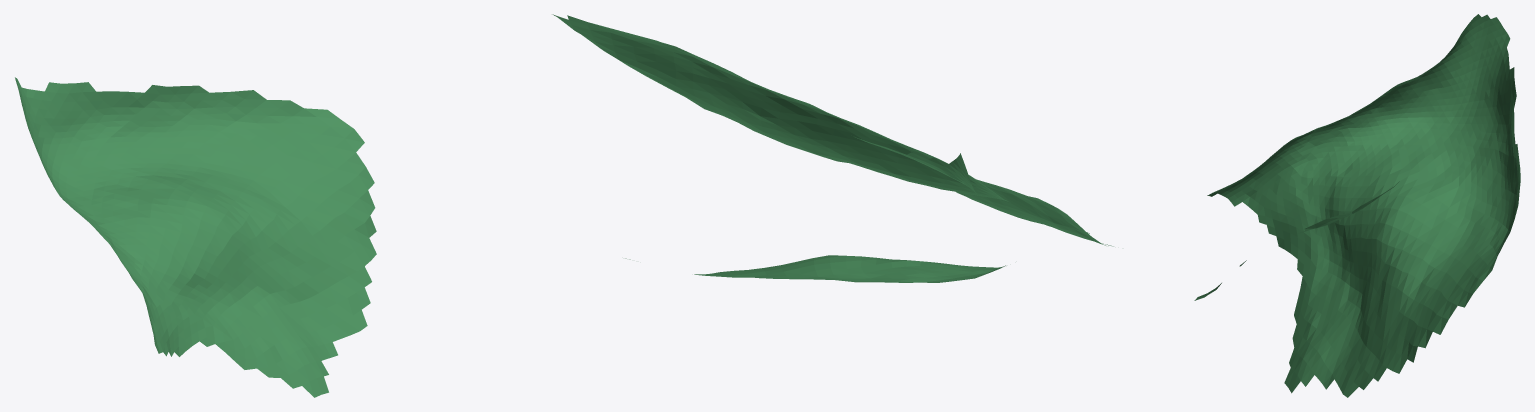
File: rh_bankssts.glb
The picture shows the model from 3 angles, left to right: view 1: azimuth 30°, elevation 25°; view 2: azimuth 150°, elevation 25°; view 3: azimuth 270°, elevation 25°; orthographic projection. The views are drawn at different scales.
Visible parts, largest first — view 1: world; view 2: world; view 3: world.
Part boxes in pixels (x1,y1,x2,y2): world: [15, 77, 376, 397]; world: [552, 14, 1113, 282]; world: [1194, 14, 1520, 397].
Size of the model in its own units: 20.47 by 17.16 by 18.75.
